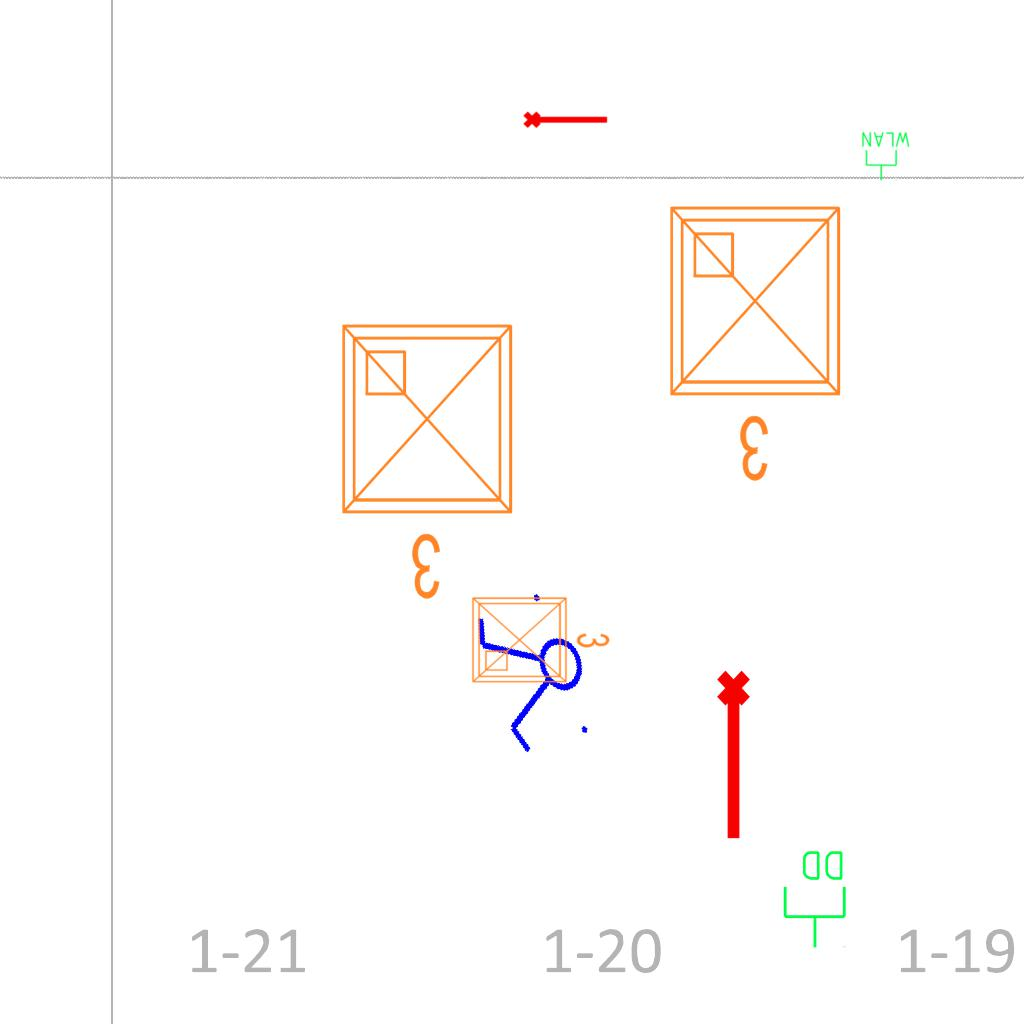ASR_Ansaugoeffnung: (713, 668, 759, 844), (522, 107, 610, 130)
Datenanschluss_zweifach: (781, 847, 850, 950)
Einbaudownlights_LED_Konferenzraeume: (655, 192, 863, 492), (327, 310, 535, 610), (465, 586, 615, 690)
Serienschalter: (463, 578, 611, 770)
WLAN: (860, 130, 912, 182)
